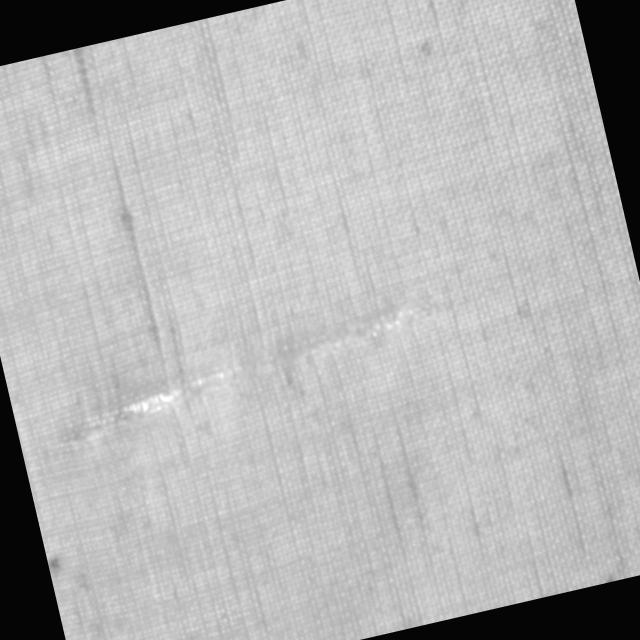thread error: (33, 297, 444, 453)
